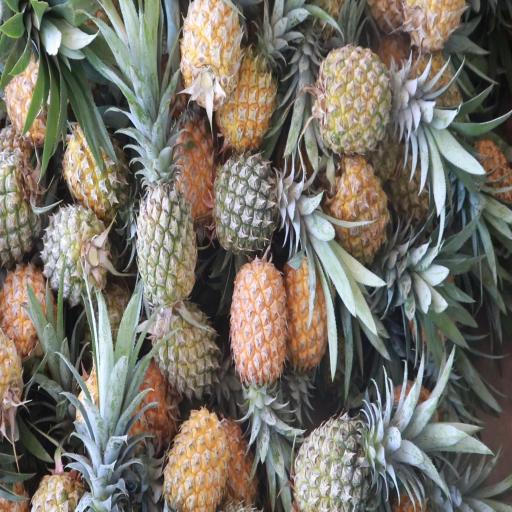------------------------------: (132, 146, 198, 310), (318, 44, 396, 150), (148, 298, 218, 402), (62, 118, 125, 215), (0, 264, 55, 366)
Pineapple - v8 v1: (160, 104, 222, 230), (232, 259, 290, 383), (160, 408, 229, 512), (218, 32, 279, 144), (180, 0, 247, 99), (330, 157, 390, 262), (286, 248, 337, 364)
